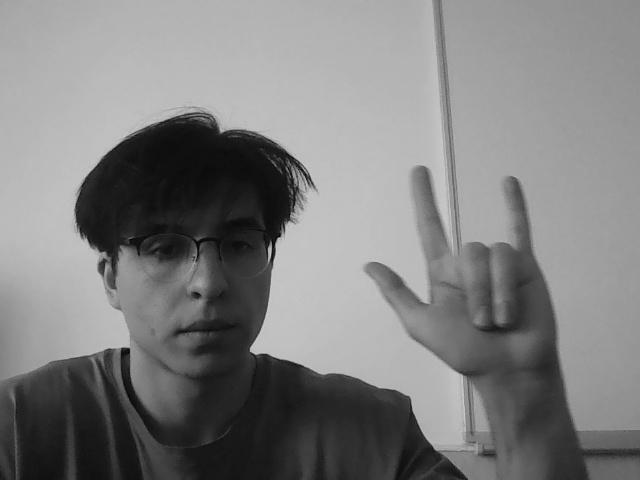I_Love_You: (375, 158, 573, 374)
